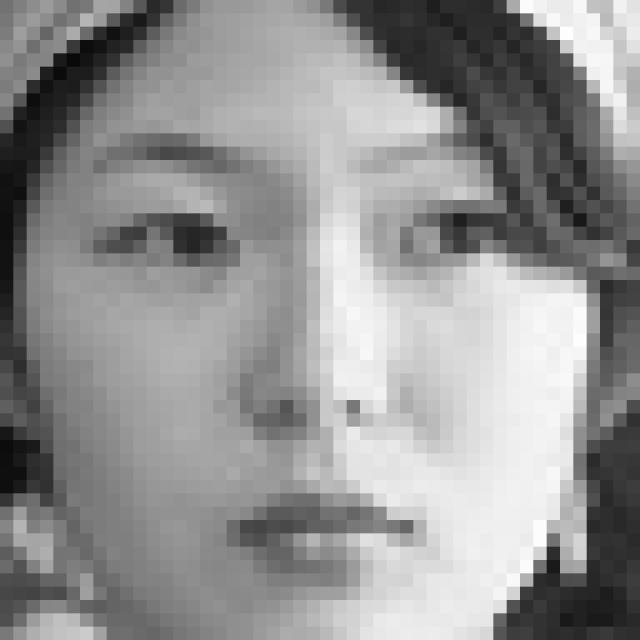neutral: (93, 126, 526, 583)
